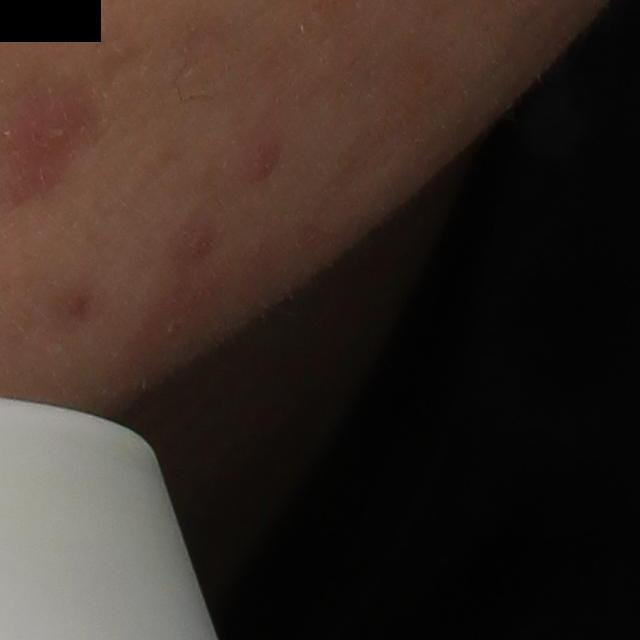papule: (244, 143, 279, 187)
